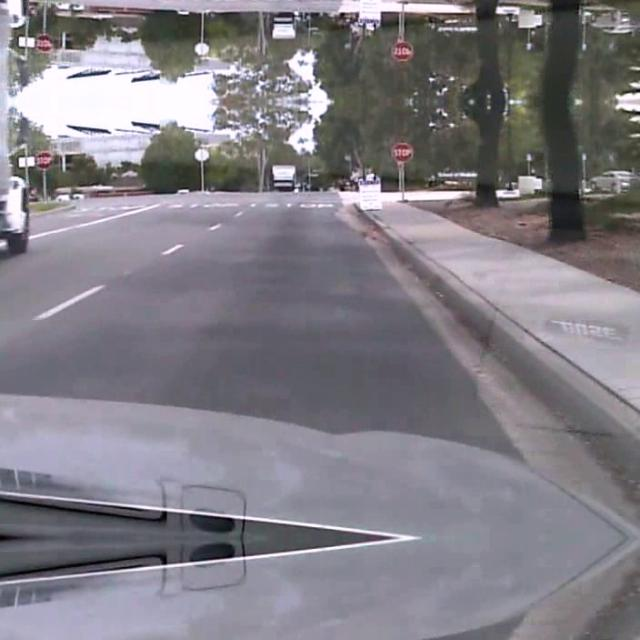stop: (390, 140, 412, 160), (390, 42, 412, 62), (34, 150, 52, 168), (34, 34, 52, 52)
